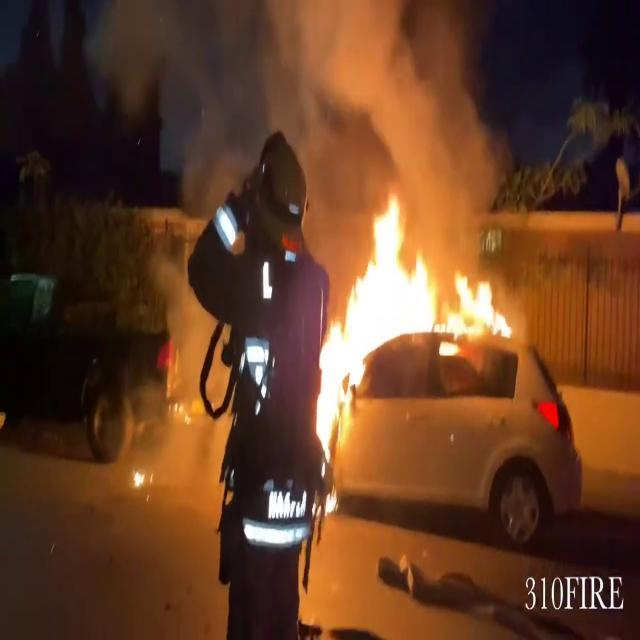Fire: (310, 188, 515, 448)
Smoke: (100, 0, 507, 215)
